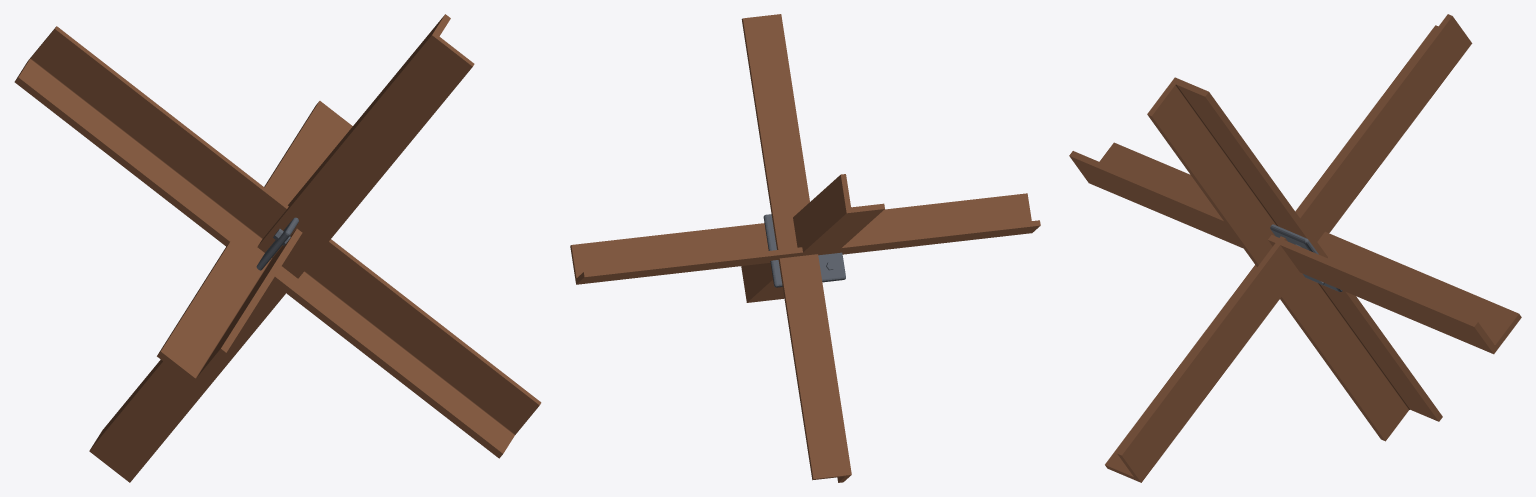
The model's file is Prop_CzechHedgehog.glb.
The picture shows the model from 3 angles, left to right: view 1: azimuth 30°, elevation 25°; view 2: azimuth 150°, elevation 25°; view 3: azimuth 270°, elevation 25°; orthographic projection. The views are drawn at different scales.
Visible parts, largest first — view 1: Hedgehog, Plate; view 2: Hedgehog, Plate; view 3: Hedgehog, Plate.
Part boxes in pixels (x1,y1,x2,y2): Hedgehog: (14, 14, 541, 482); Plate: (256, 217, 298, 270); Hedgehog: (570, 14, 1040, 482); Plate: (763, 214, 845, 287); Hedgehog: (1069, 14, 1521, 482); Plate: (1270, 224, 1342, 291).
Bounding box in the file's own units: 1.5 × 1.64 × 1.5.
